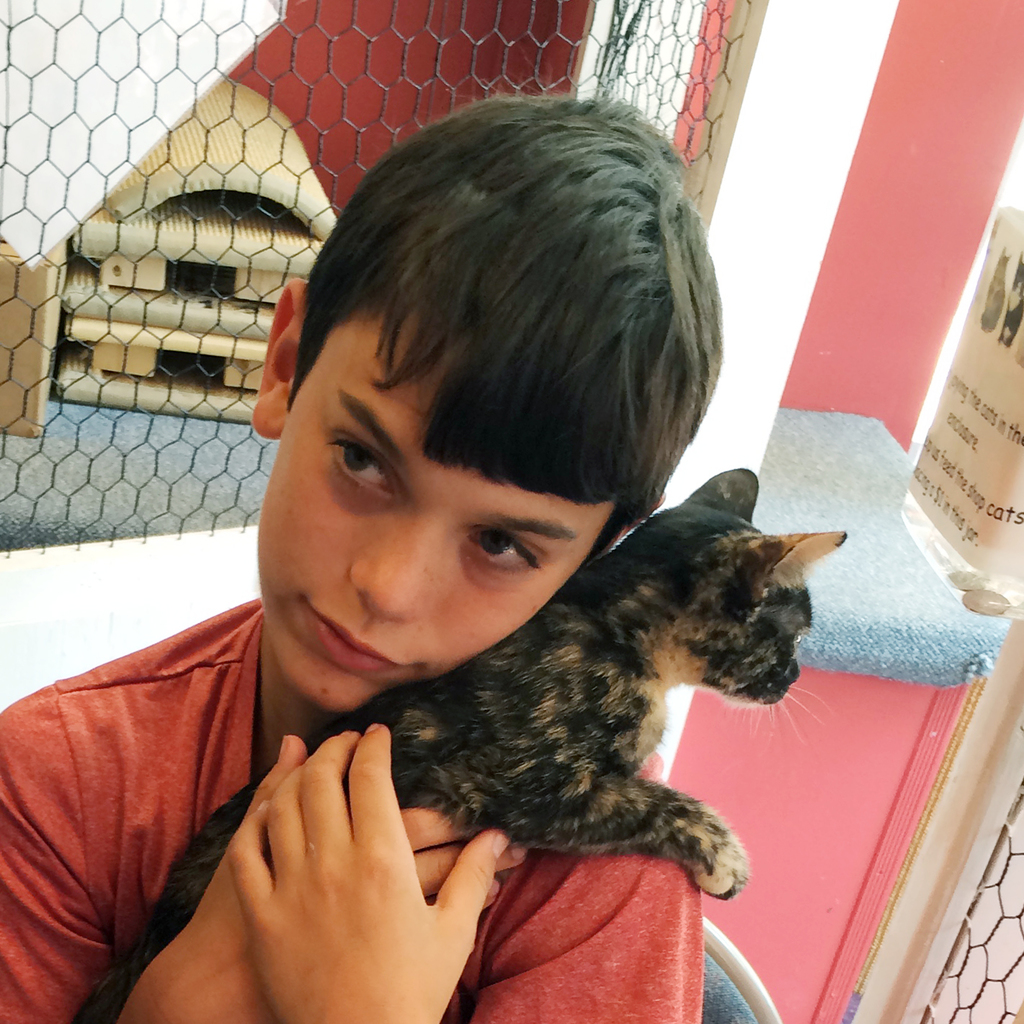Human_hand: (168, 729, 526, 1023)
